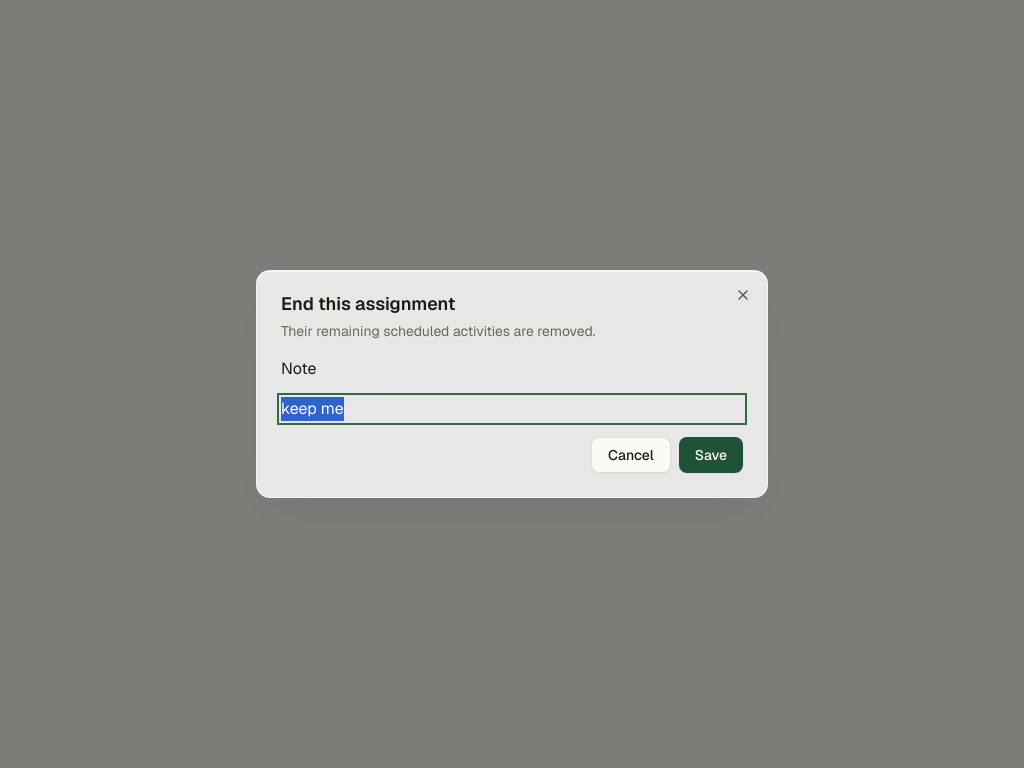
Test: GlassDialog › still announces failure and keeps the input
This screenshot has width=1024, height=768.
Step 1. Click the button "Save" → (711, 455), box 679,437 -> 743,473
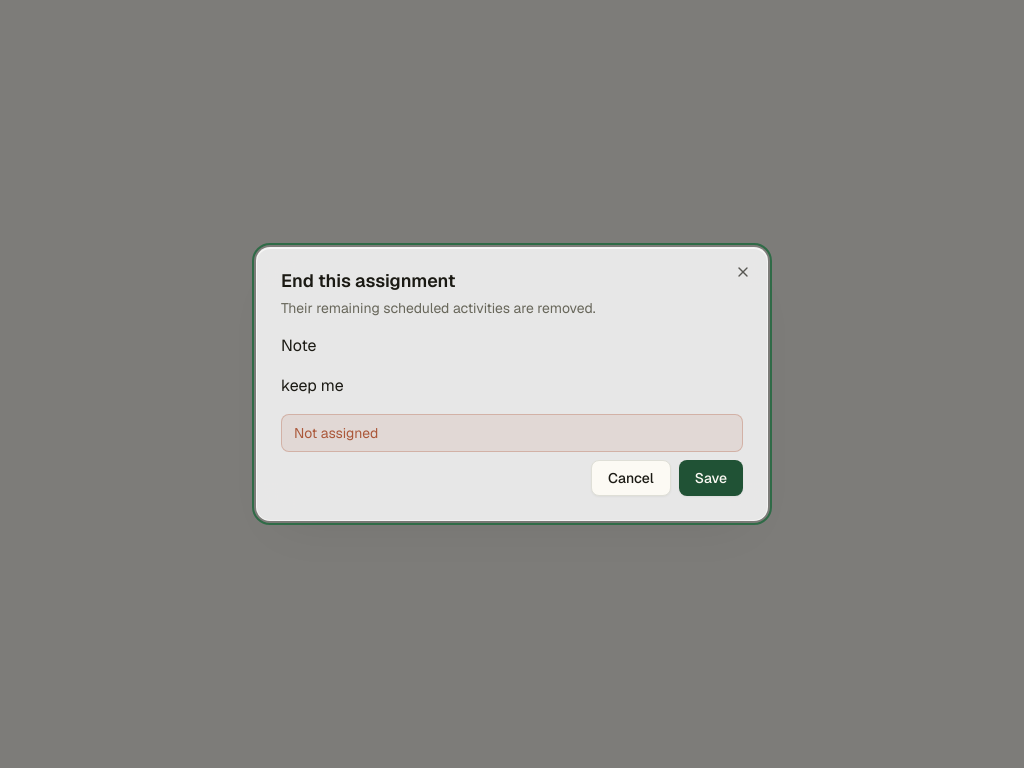
expect the field labelled "Note" holds "keep me": met, box 281,374 -> 743,398
expect the message reads "Not assigned": met, box 294,424 -> 378,442
